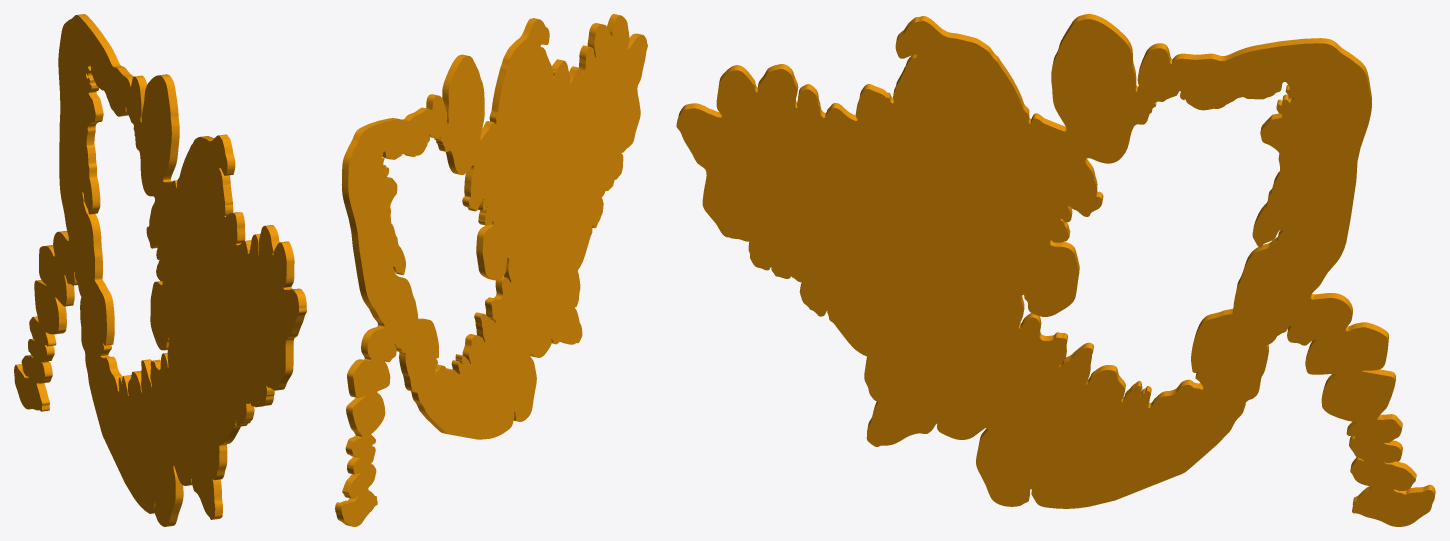
File: 10FORGLTF-orange.gltf
3 views of the same model, side by side, from view 1: azimuth 30°, elevation 25°; view 2: azimuth 150°, elevation 25°; view 3: azimuth 270°, elevation 25° (orthographic). The views are drawn at different scales.
Parts seen in each view (by area): view 1: Cap 2, Path 3; view 2: Cap 2, Path 3; view 3: Cap 1, Path 3.
Boxes of the visible parts, x1,y1,x2,y2 form: Cap 2: (14,15,298,526); Path 3: (16,14,306,526); Cap 2: (341,15,647,526); Path 3: (335,14,642,526); Cap 1: (676,19,1434,526); Path 3: (676,14,1435,508).
Size of the model in its own units: 4.79 by 32.13 by 42.98.
